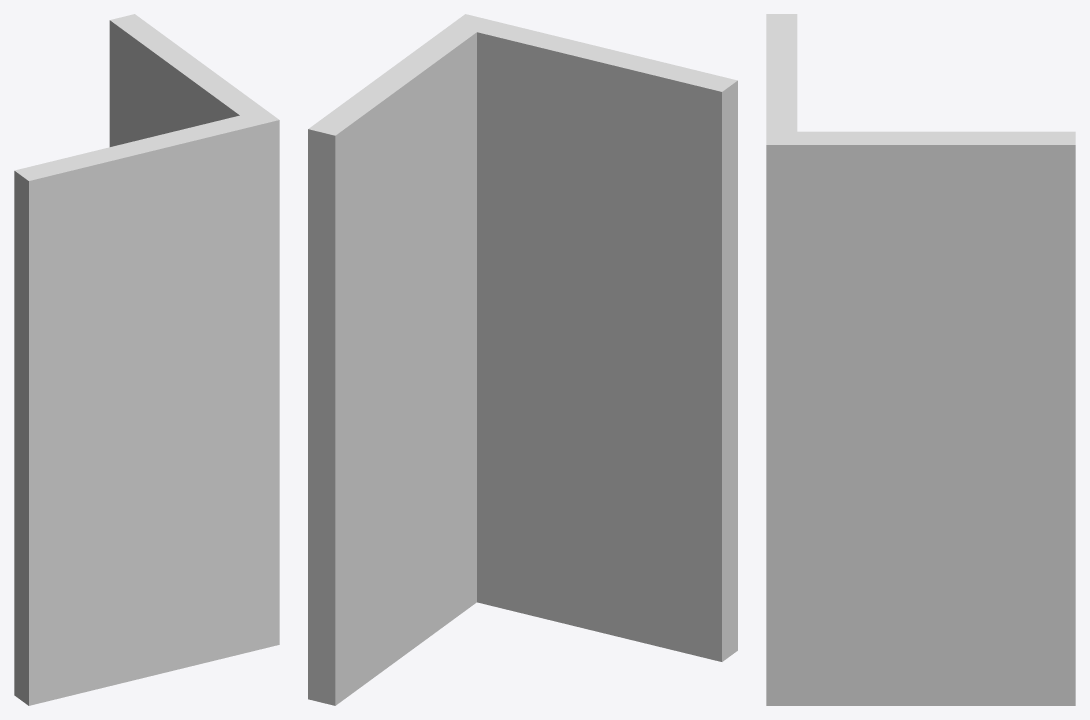
The model's file is PlainCorner.glb.
3 renders of one model, left to right at view 1: azimuth 30°, elevation 25°; view 2: azimuth 150°, elevation 25°; view 3: azimuth 270°, elevation 25°, orthographic. The views are drawn at different scales.
Parts seen in each view (by area): view 1: PlainCorner; view 2: PlainCorner; view 3: PlainCorner.
Boxes of the visible parts, x1,y1,x2,y2 form: PlainCorner: (14, 14, 279, 705); PlainCorner: (308, 14, 737, 705); PlainCorner: (766, 14, 1075, 705).
Bounding box in the file's own units: 1 × 2 × 1.
1 material, 1 textured.
